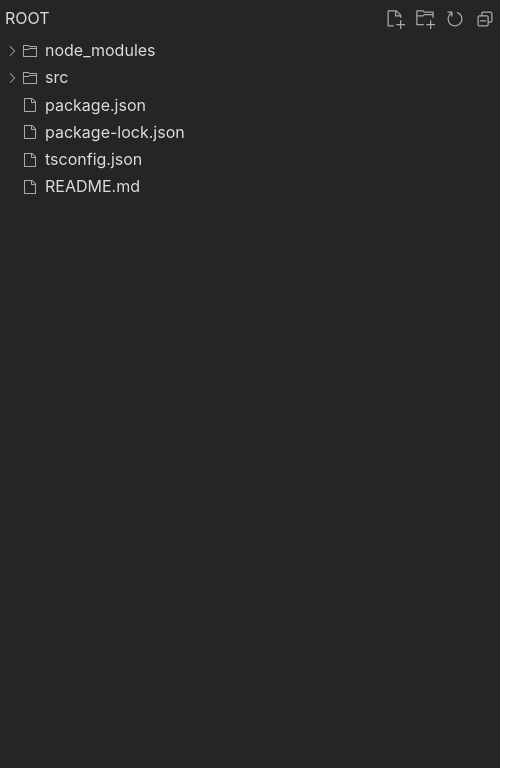
Scenario: expands/collapses when src directory is clicked
This screenshot has width=517, height=768.
Click the element named "src-file-row" at [36, 77], box [4, 67, 68, 87]
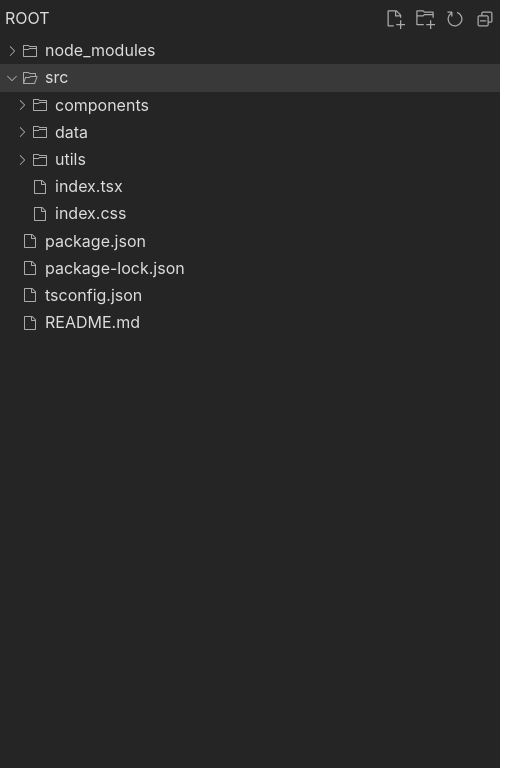
Check: the number of elements named "file-row" is 11
Click the element named "src-file-row" at [250, 78], box [0, 64, 500, 92]
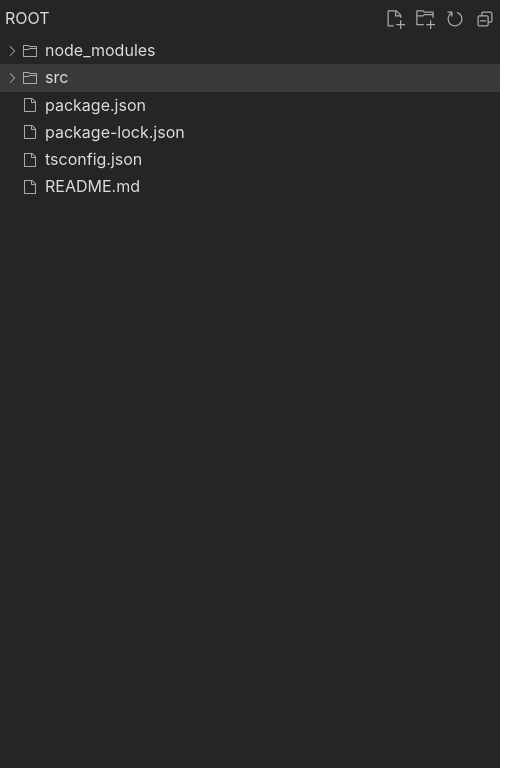
Check: the number of elements named "file-row" is 6, box [4, 40, 156, 60]; [0, 64, 500, 92]; [22, 95, 146, 115]; [22, 122, 185, 142]; [22, 149, 142, 169]; [22, 176, 140, 196]
